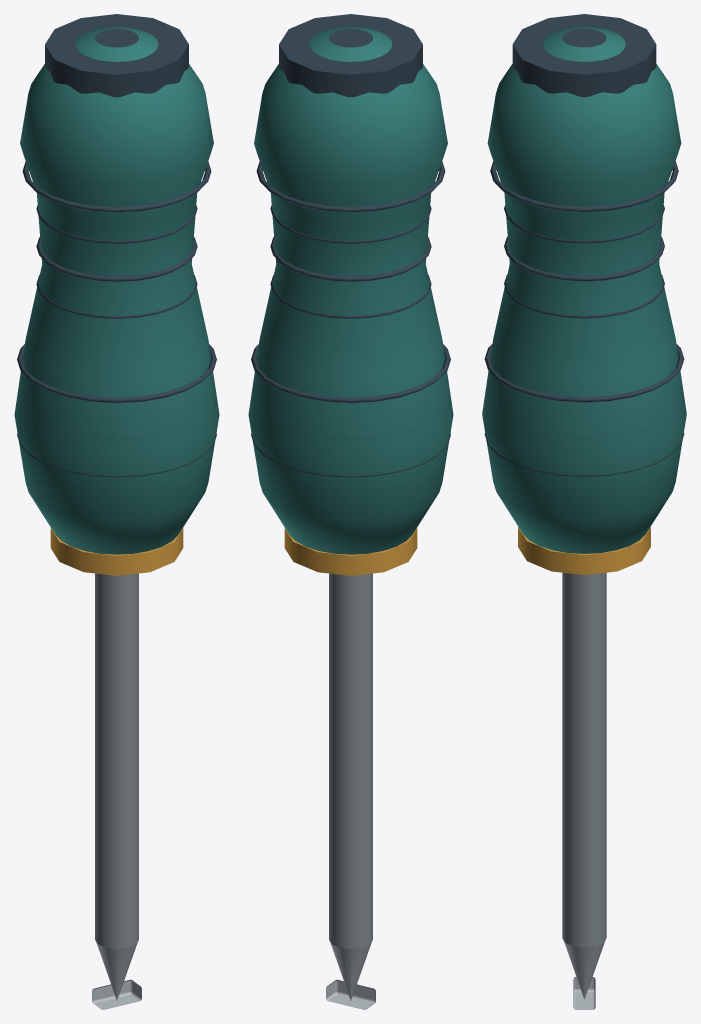
File: source.glb
3 views of the same model, side by side, from view 1: azimuth 30°, elevation 25°; view 2: azimuth 150°, elevation 25°; view 3: azimuth 270°, elevation 25° (orthographic).
Parts seen in each view (by area): view 1: teal, steel, navy, brass, steelEdge; view 2: teal, steel, navy, brass, steelEdge; view 3: teal, steel, navy, brass, steelEdge.
Part boxes in pixels (box(x1,y1,x2,y2)): teal: box(14, 27, 219, 554); steel: box(95, 573, 138, 948); navy: box(17, 14, 216, 477); brass: box(50, 528, 183, 575); steelEdge: box(92, 942, 141, 1009); teal: box(248, 27, 453, 554); steel: box(329, 573, 372, 948); navy: box(251, 14, 450, 477); brass: box(284, 528, 417, 575); steelEdge: box(326, 942, 375, 1009); teal: box(482, 27, 686, 553); steel: box(562, 572, 606, 947); navy: box(484, 14, 684, 476); brass: box(518, 527, 650, 574); steelEdge: box(563, 940, 605, 1009).
Bounding box in the file's own units: 0.074 × 0.384 × 0.074.
